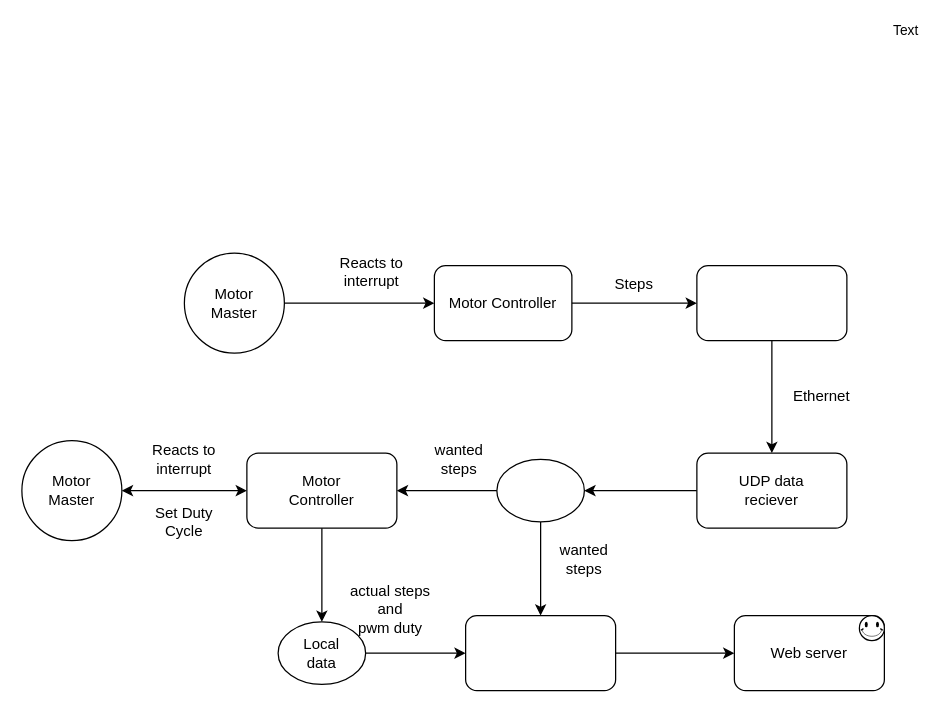
This 939x713 diagram has some shape labels left out. Each missing label, with the centre of its shape:
HTTP data sampling: point 540,652
Recieved data: point 540,490
UDP data sender: point 771,302
